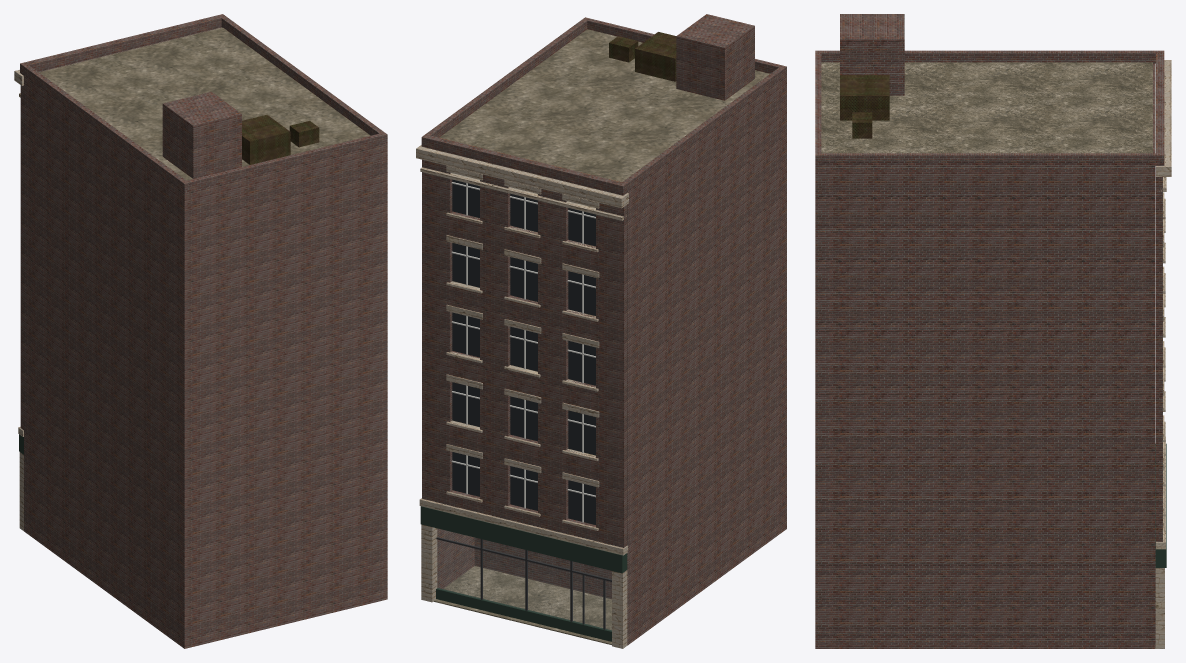
Rendered from bldg_shop_brick_6st.gltf.
3 renders of one model, left to right at view 1: azimuth 30°, elevation 25°; view 2: azimuth 150°, elevation 25°; view 3: azimuth 270°, elevation 25°, orthographic. The views are drawn at different scales.
Visible parts, largest first — view 1: bldg_shop_brick_6st; view 2: bldg_shop_brick_6st; view 3: bldg_shop_brick_6st.
Part boxes in pixels (left/top/right/bottom): bldg_shop_brick_6st: left=14, top=14, right=387, bottom=648; bldg_shop_brick_6st: left=416, top=14, right=786, bottom=648; bldg_shop_brick_6st: left=815, top=14, right=1171, bottom=648.
Size of what is drawn, in the model's own units: 10.2 by 24.02 by 14.35.
Materials: 9 (4 with a texture image).
